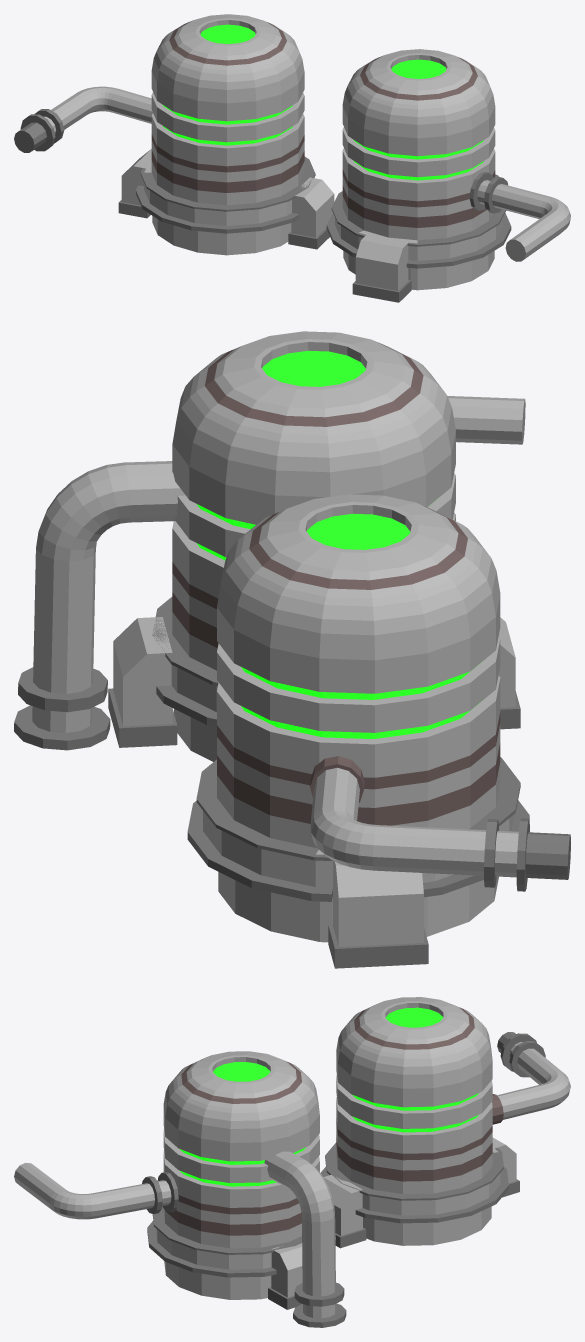
The model's file is ENERGY STORE.glb.
3 renders of one model, top to bottom at view 1: azimuth 30°, elevation 25°; view 2: azimuth 150°, elevation 25°; view 3: azimuth 270°, elevation 25°, orthographic. The views are drawn at different scales.
Parts seen in each view (by area): view 1: Almacenes; view 2: Almacenes; view 3: Almacenes.
Part boxes in pixels (x1,y1,x2,y2): Almacenes: (14, 14, 570, 302); Almacenes: (14, 331, 570, 968); Almacenes: (14, 997, 570, 1327).
Bounding box in the file's own units: 4.56 × 2.15 × 5.45.
